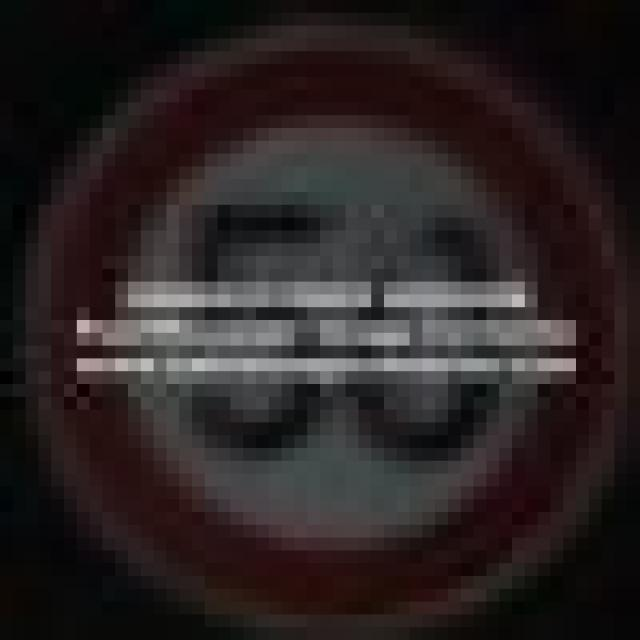SPEED_LIMIT_50: (38, 38, 589, 589)
